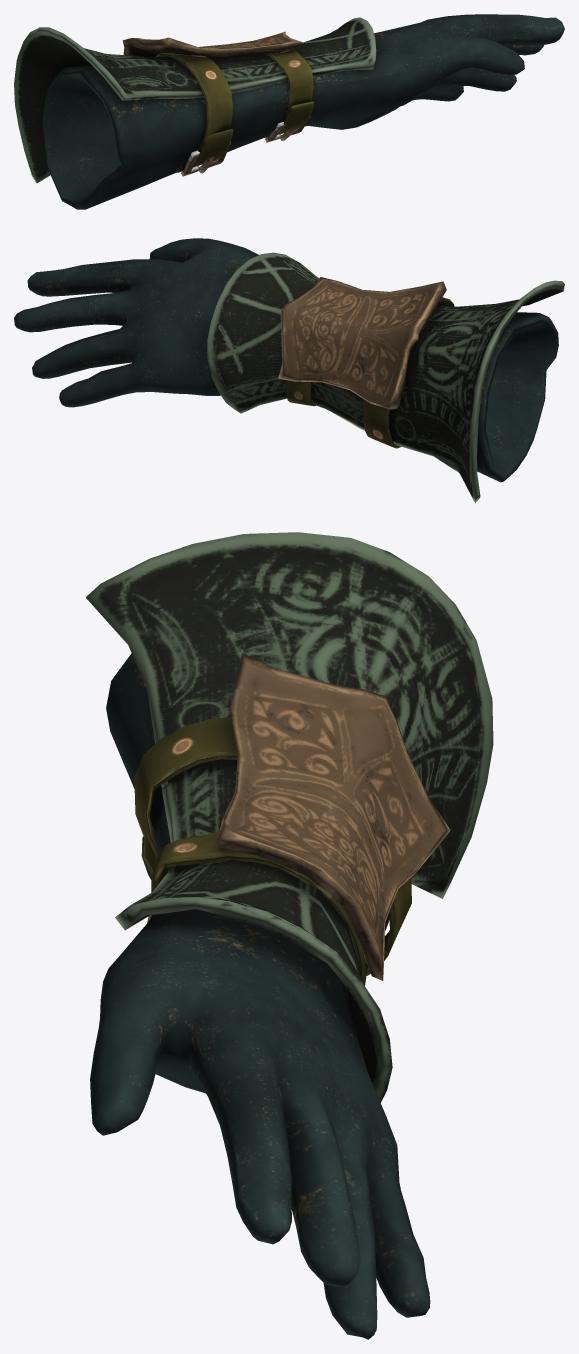
Rendered from basic_iron_gauntlet.glb.
3 renders of one model, top to bottom at view 1: azimuth 30°, elevation 25°; view 2: azimuth 150°, elevation 25°; view 3: azimuth 270°, elevation 25°, orthographic. The views are drawn at different scales.
Parts seen in each view (by area): view 1: BuckleB_Low; view 2: BuckleB_Low; view 3: BuckleB_Low.
Boxes of the visible parts, left/top/right/bottom form: BuckleB_Low: left=14, top=14, right=564, bottom=209; BuckleB_Low: left=14, top=238, right=564, bottom=503; BuckleB_Low: left=86, top=532, right=493, bottom=1339.
Size of the model in its own units: 1.23 by 0.4408 by 0.4348.
1 material, 1 textured.
